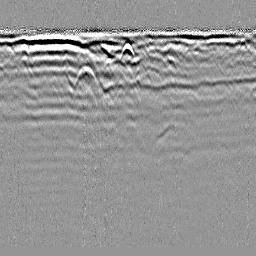cavity: (118, 39, 136, 62)
